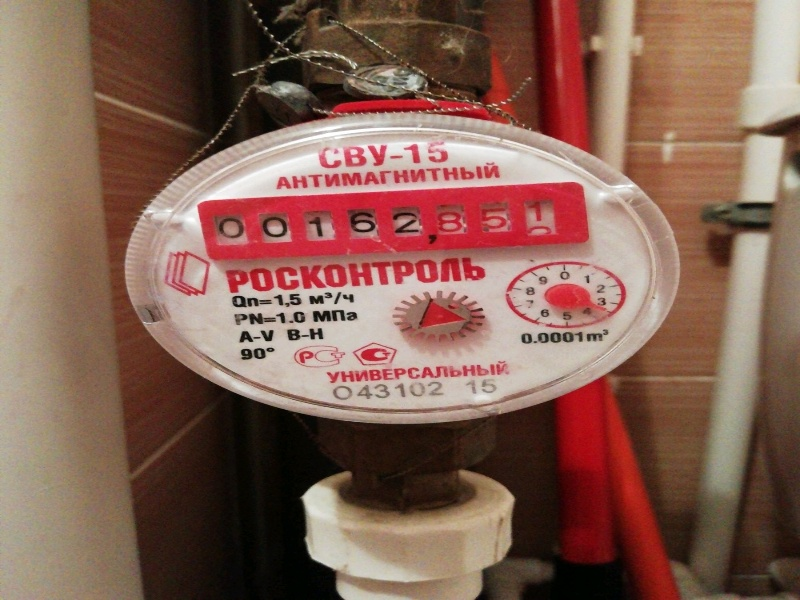meter: (200, 203, 572, 249)
